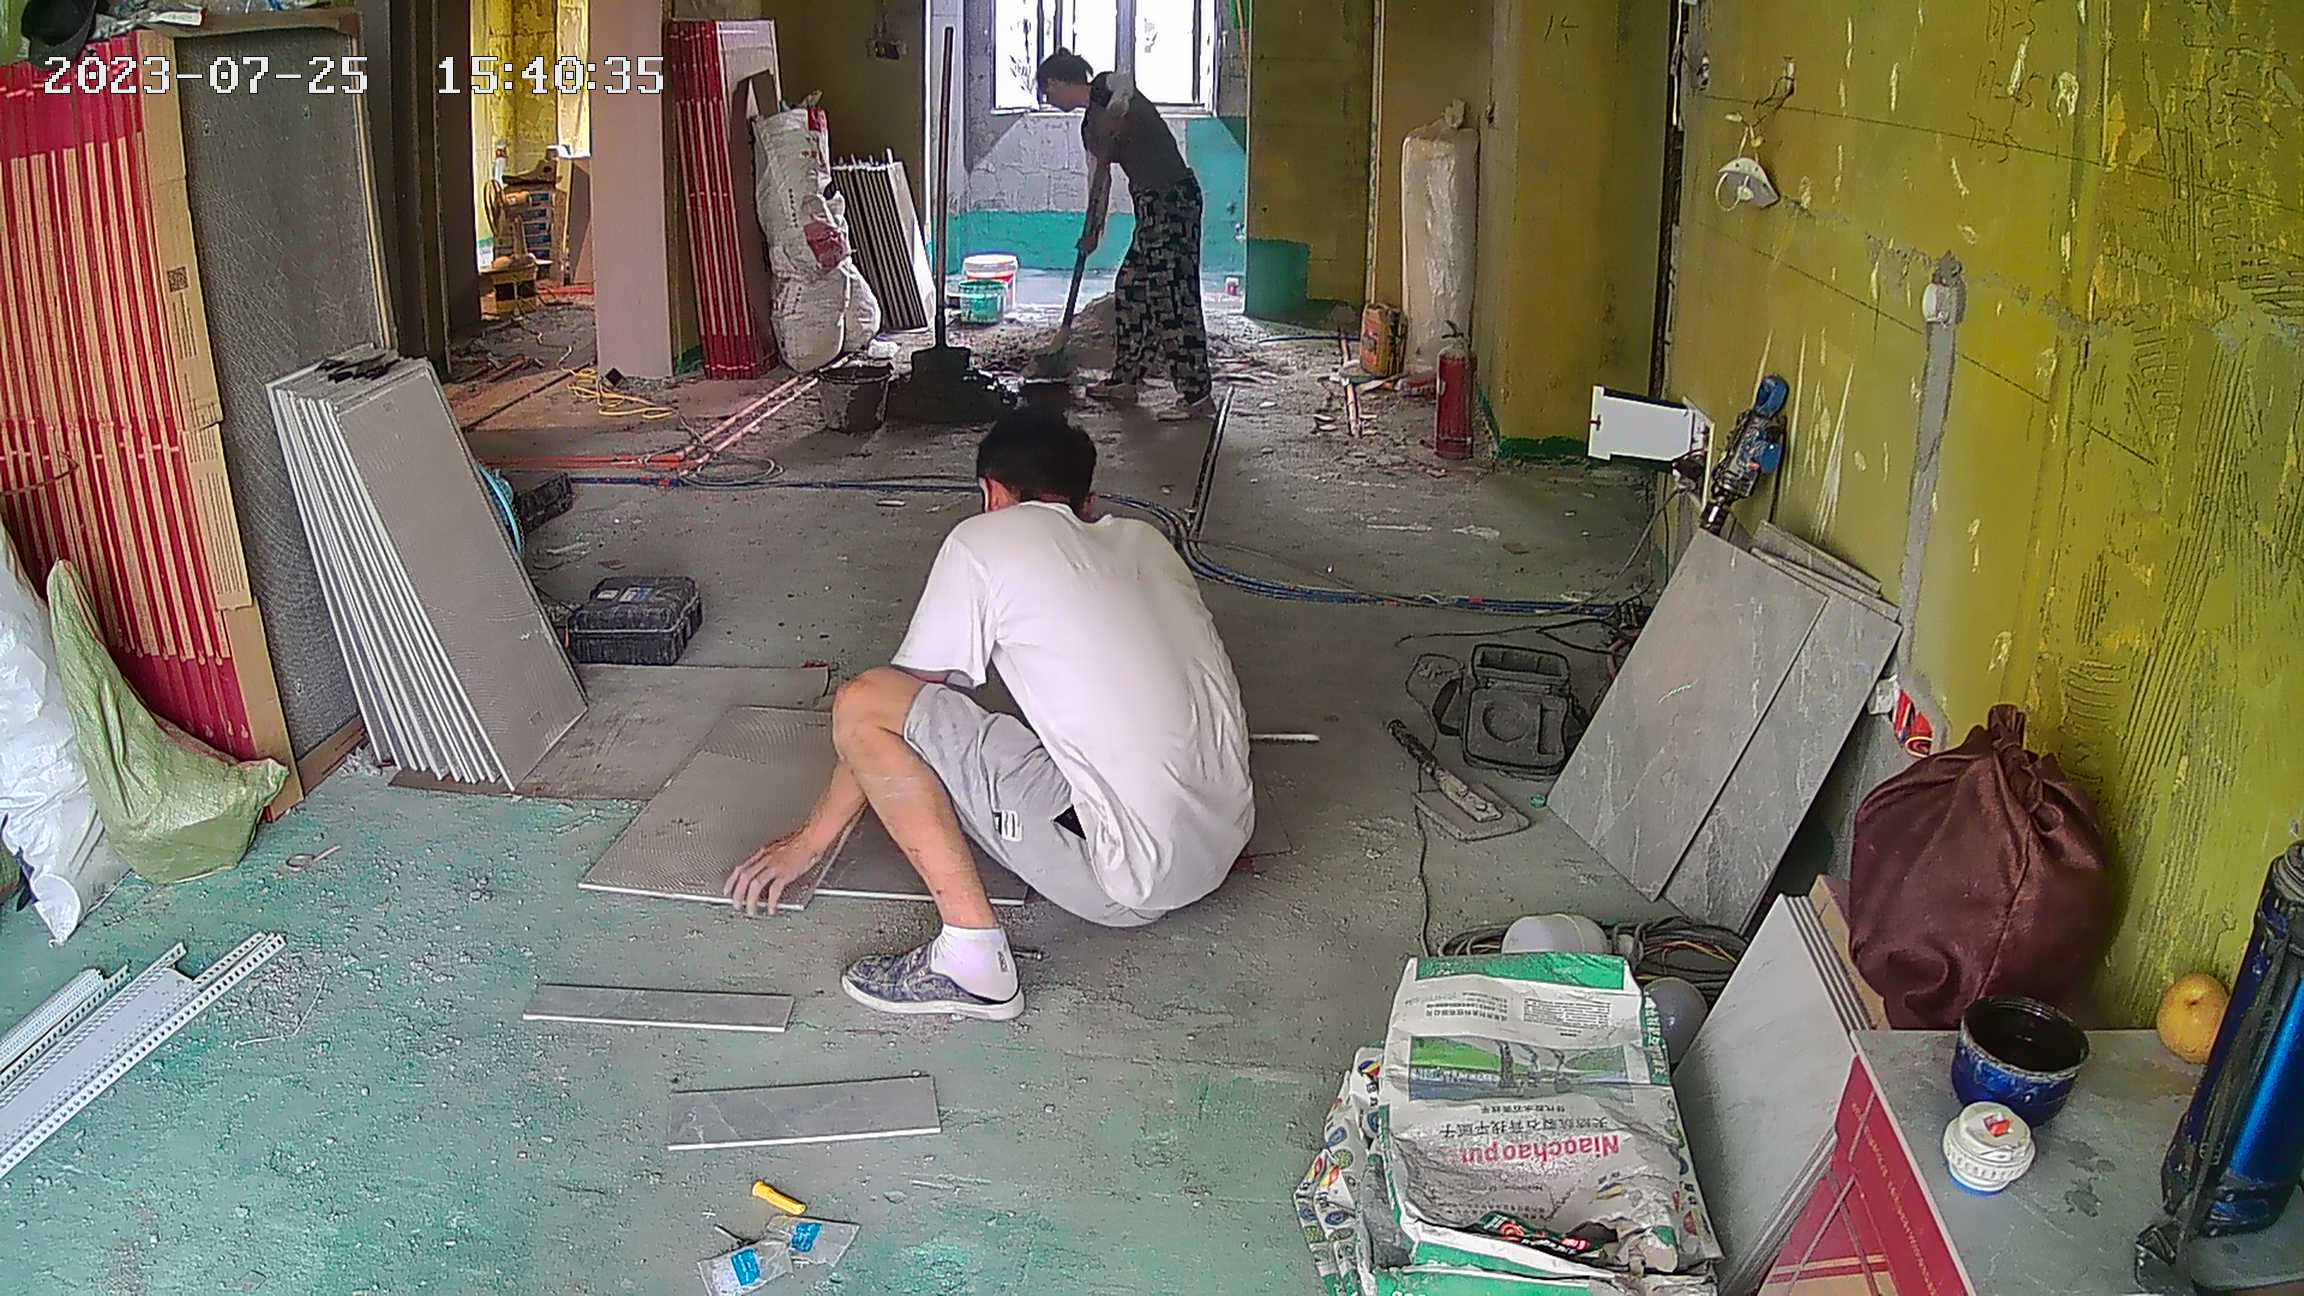people: (732, 413, 1253, 1020), (1032, 53, 1223, 413)
window: (997, 1, 1211, 109)
